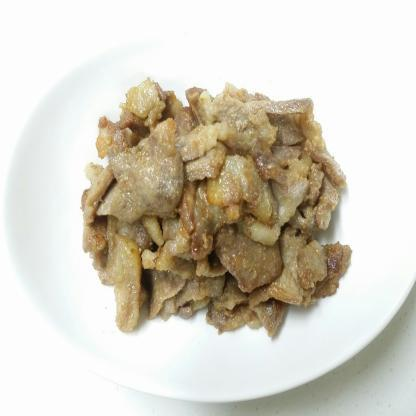pork: (107, 91, 331, 323)
